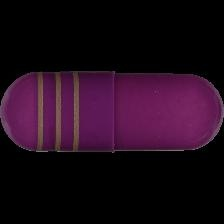61919-509: (0, 0, 224, 224)
